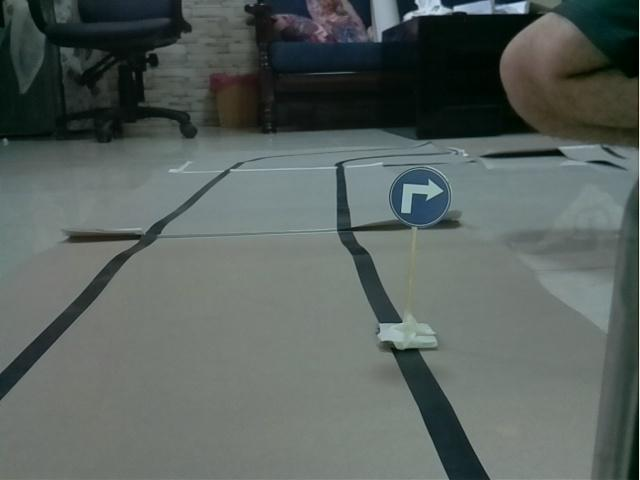turn: (383, 167, 455, 229)
